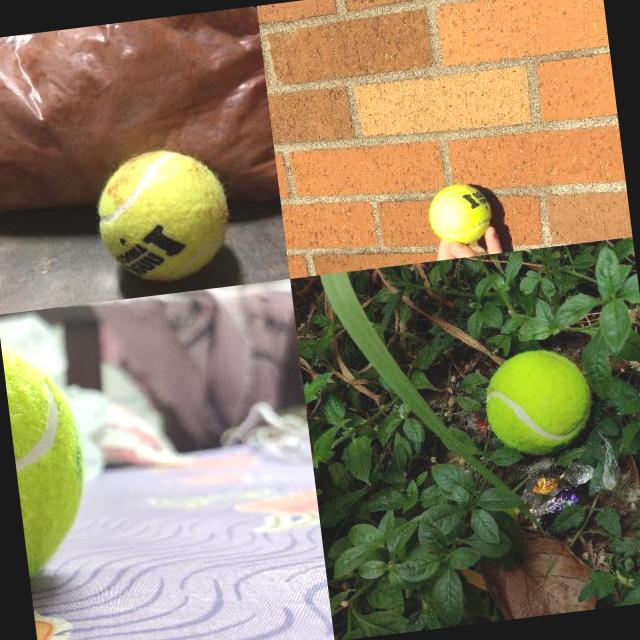Tennis Ball: (0, 318, 99, 589), (90, 142, 238, 288), (481, 344, 596, 459), (424, 180, 494, 248)
